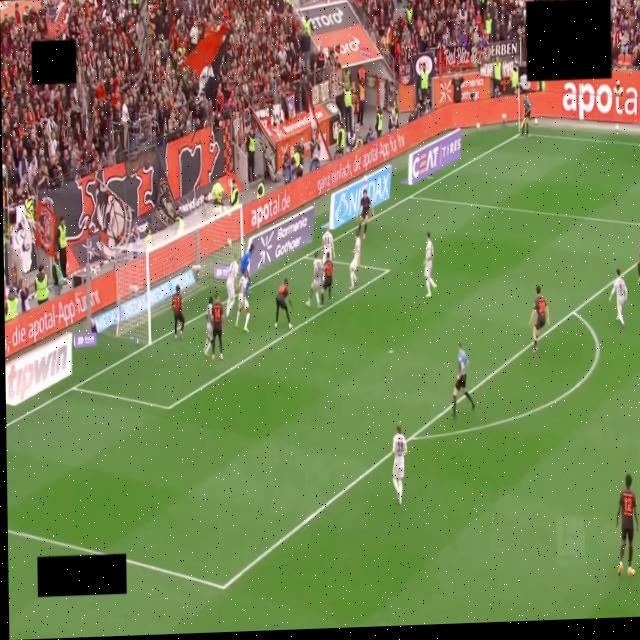ball: (362, 175, 368, 186)
player: (616, 474, 638, 575), (530, 285, 549, 353), (392, 423, 407, 505), (610, 269, 627, 328), (307, 252, 323, 307), (235, 274, 250, 332), (211, 294, 224, 360), (275, 279, 292, 328), (424, 232, 436, 297), (358, 190, 373, 240), (240, 244, 254, 297), (226, 255, 237, 322), (349, 229, 361, 290), (203, 296, 215, 357), (172, 286, 185, 338), (321, 256, 333, 306), (322, 228, 334, 260), (637, 246, 639, 282)
referee: (452, 343, 474, 418)
